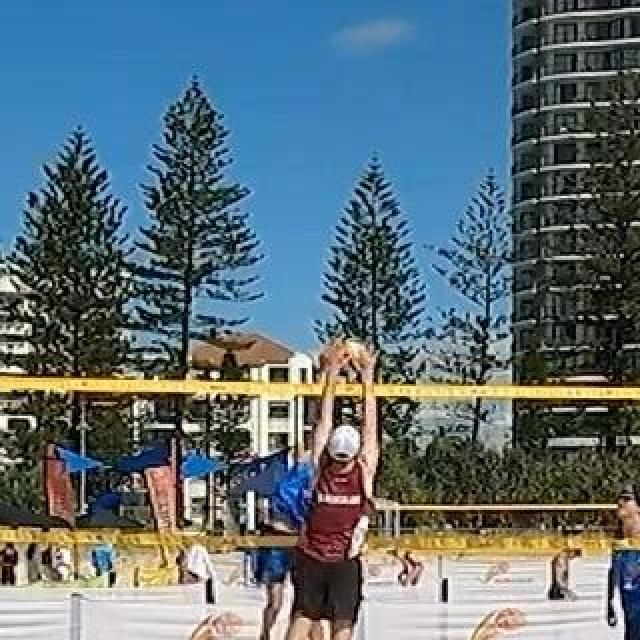volleyball: (335, 341, 367, 371)
